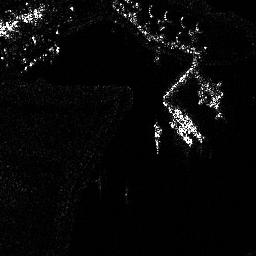ship: (168, 120, 194, 148)
